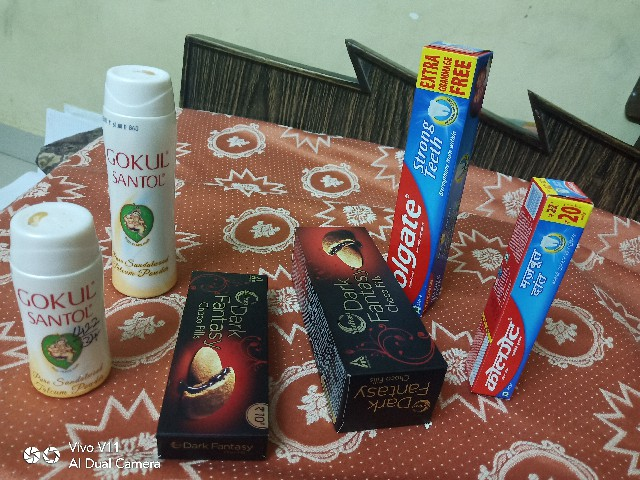colgatetoothpaste big: (380, 30, 492, 320)
colgatetoothpaste small: (472, 160, 596, 447)
darkfantasy big: (293, 221, 447, 429)
darkfantasy small: (151, 262, 279, 460)
gokulsantol big: (91, 48, 179, 299)
gokulsantol small: (7, 203, 114, 403)
